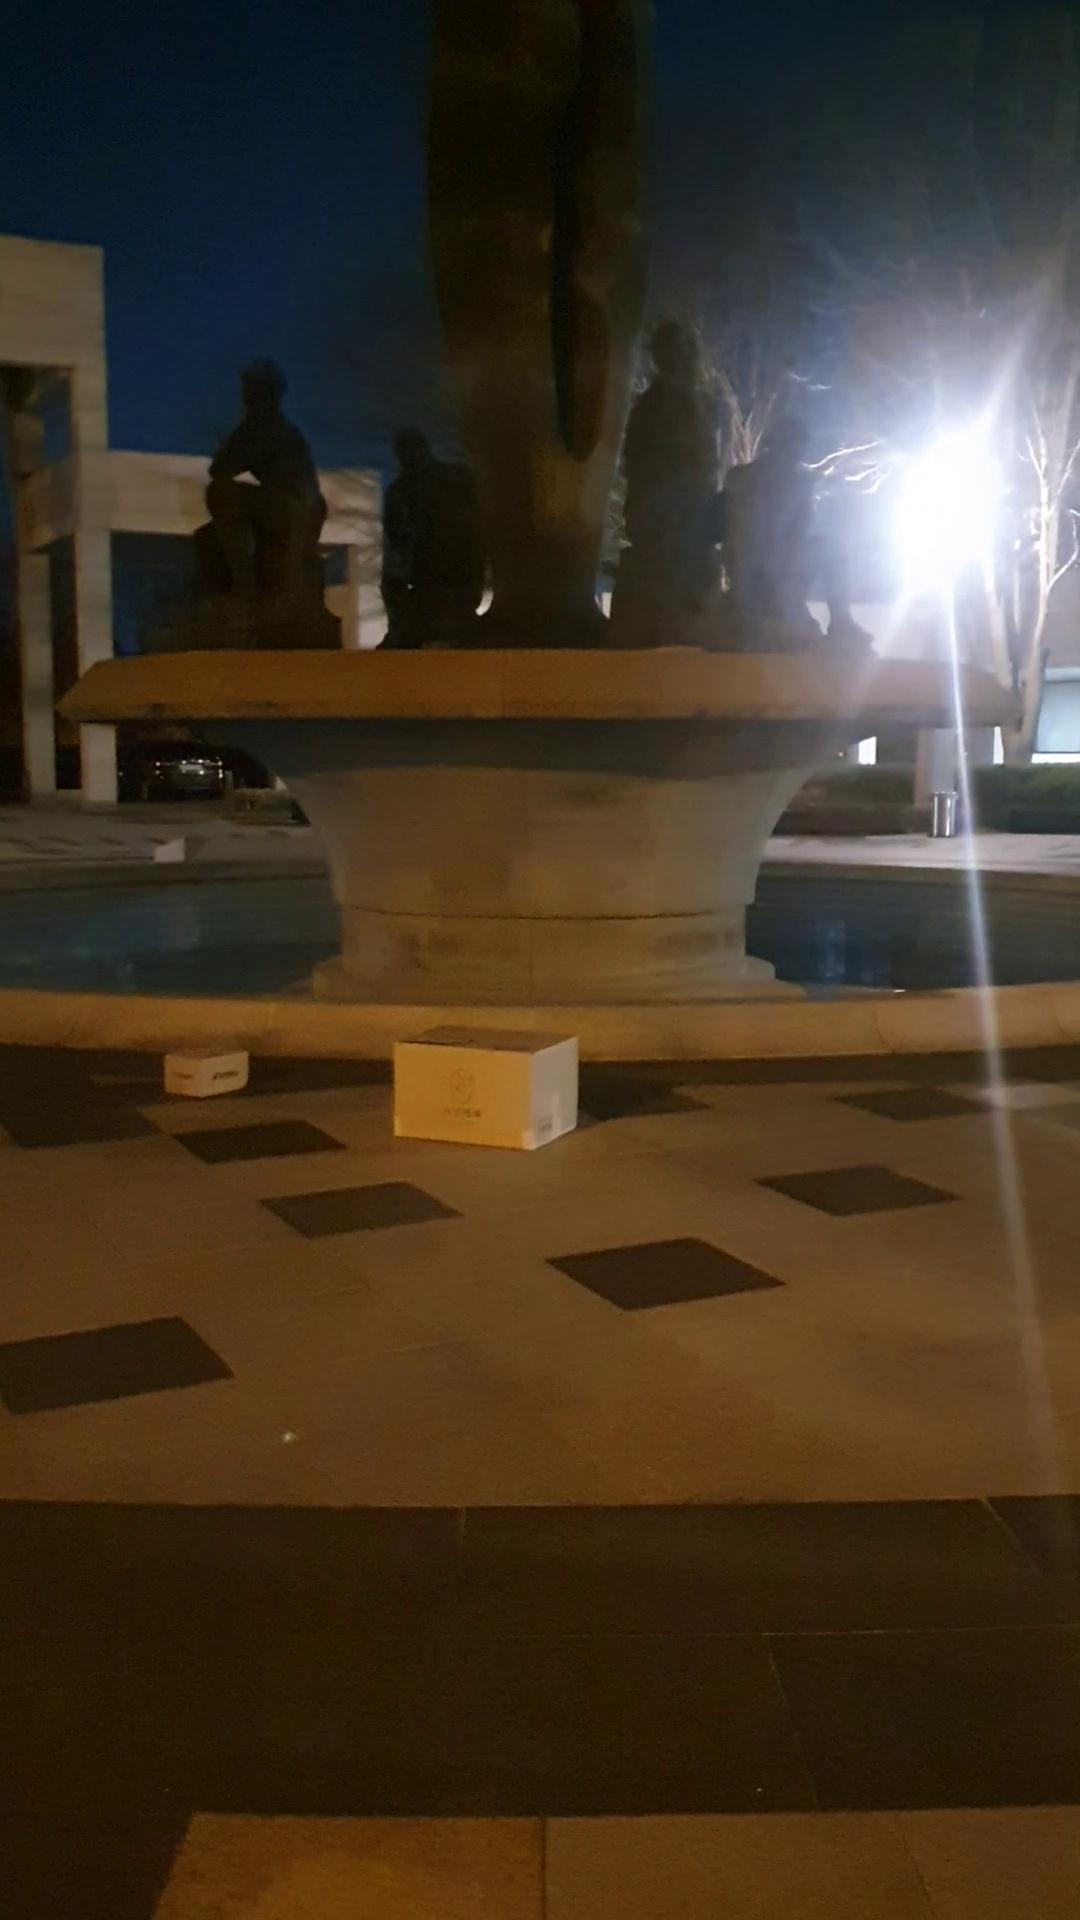Box: (396, 1021, 588, 1156), (156, 1030, 258, 1100)
